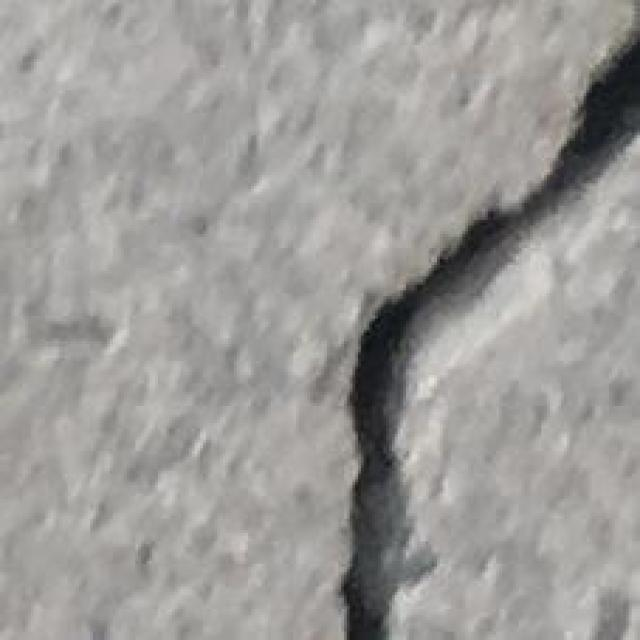Crack: (318, 39, 640, 639)
